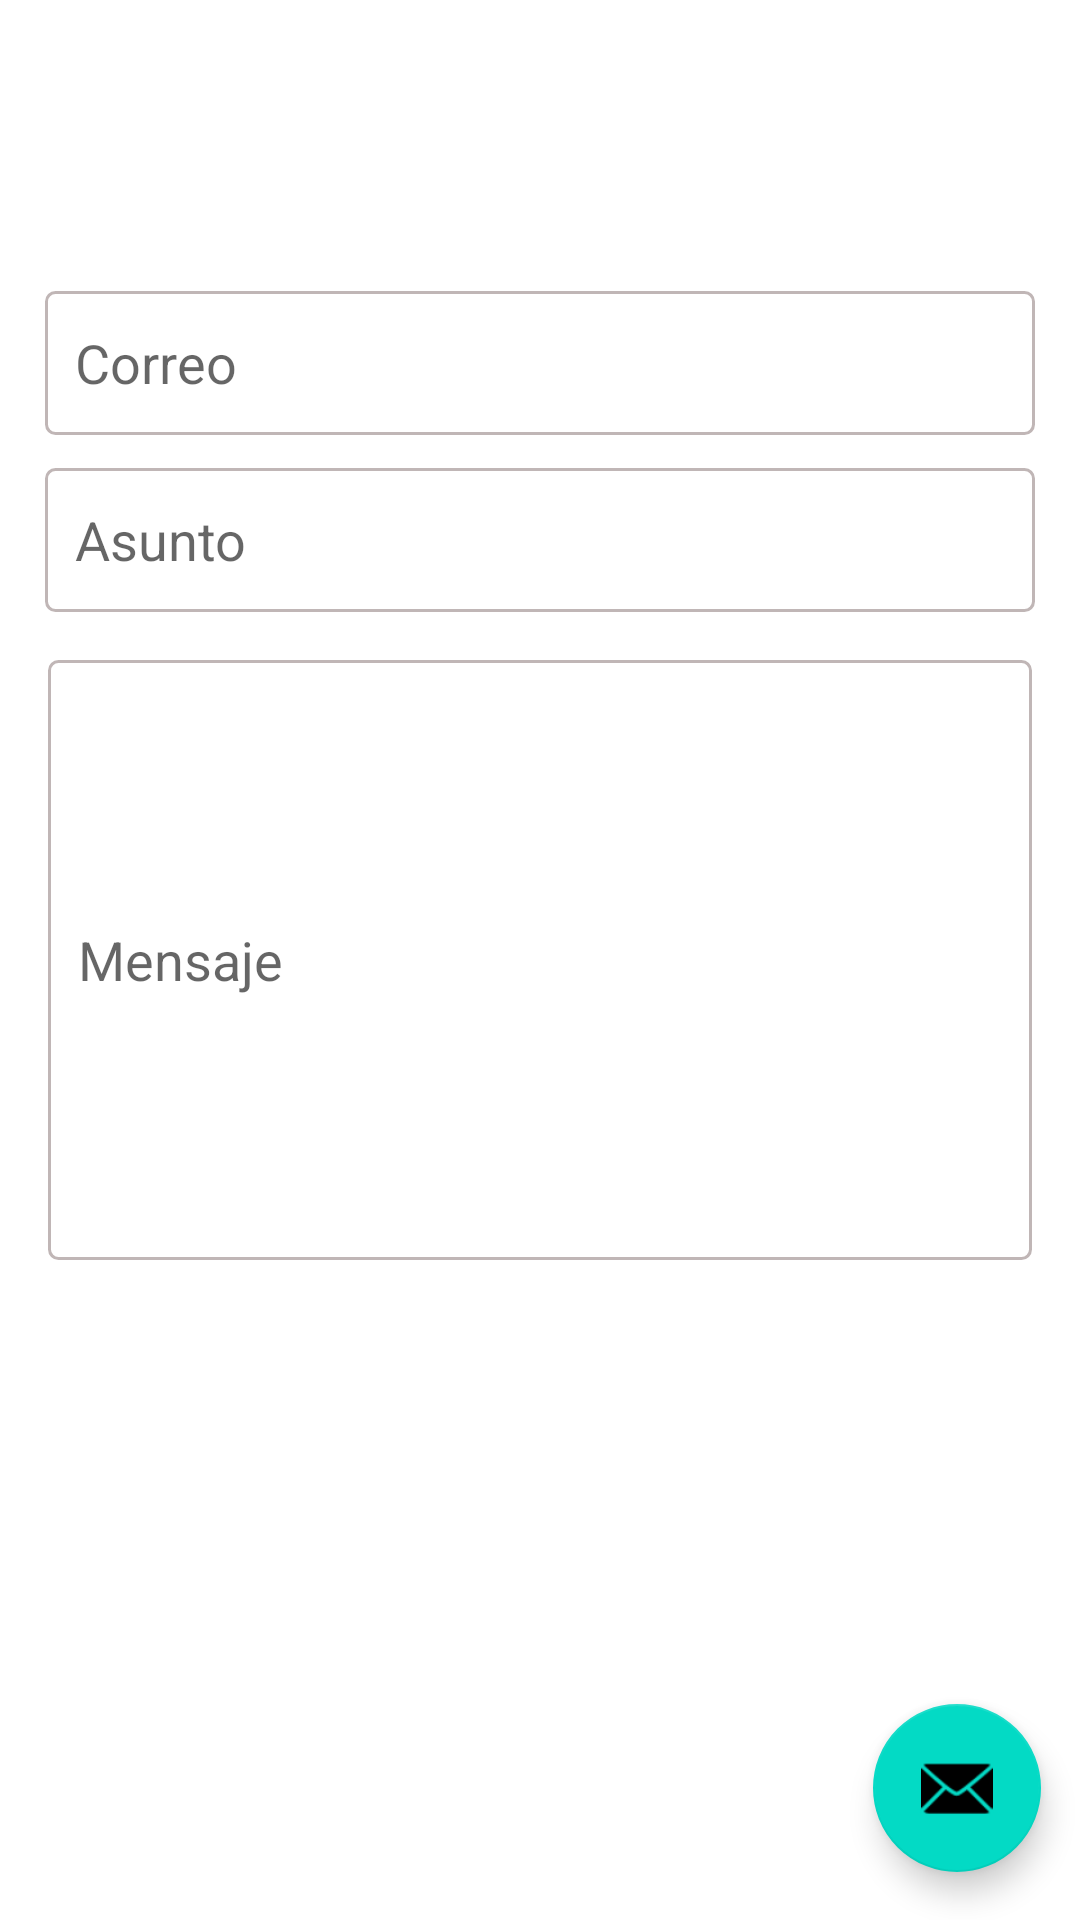

Screen size 1080 x 1920. Icon name, then its center in pixels as [x,y]:
email: [957,1788]
